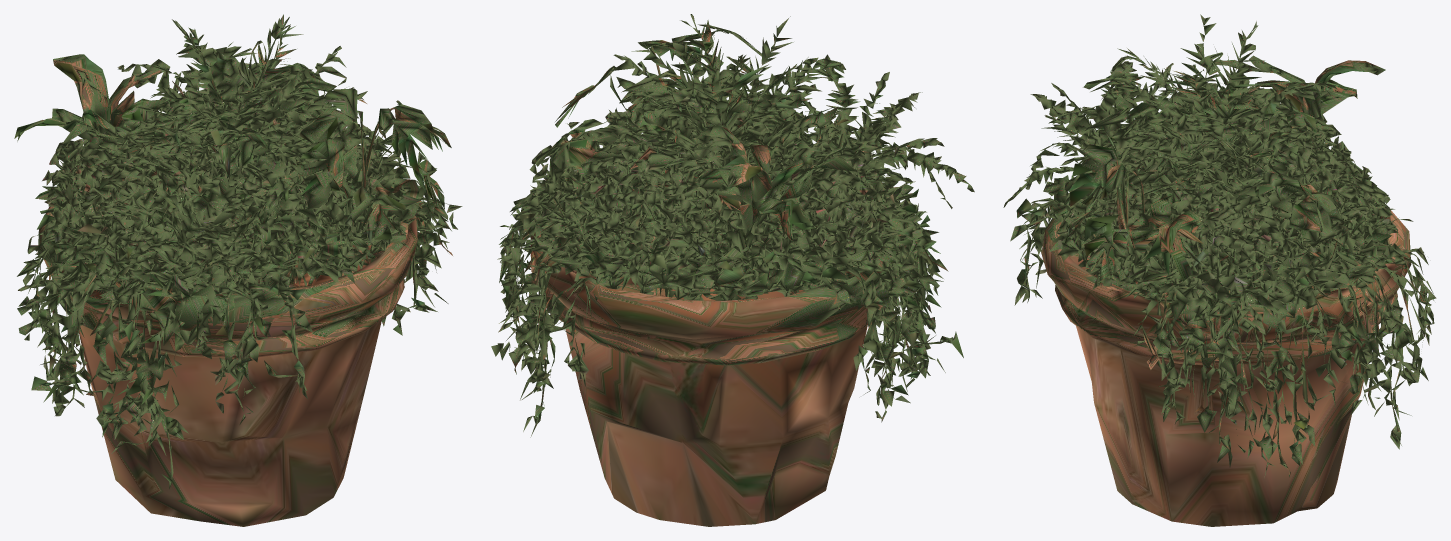
Rendered from planter.glb.
3 renders of one model, left to right at view 1: azimuth 30°, elevation 25°; view 2: azimuth 150°, elevation 25°; view 3: azimuth 270°, elevation 25°, orthographic. The views are drawn at different scales.
Size of the model in its own units: 1.85 by 1.86 by 1.66.
Materials: 1 (1 with a texture image).
